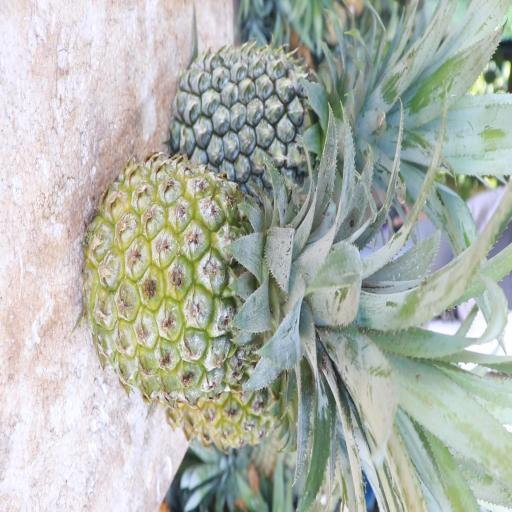------------------------------: (80, 145, 366, 398)
